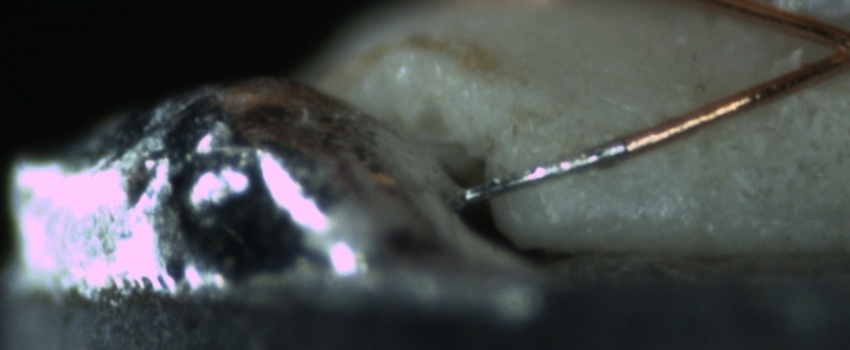CL: (803, 14, 849, 80)
TS: (460, 137, 624, 204)
